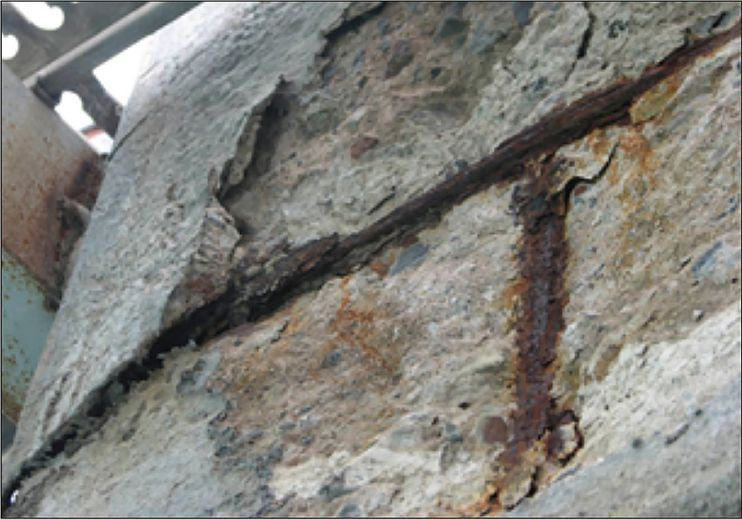Exposed reinforcement: (1, 17, 742, 519), (504, 148, 578, 457)
Spalling: (158, 1, 742, 519)
